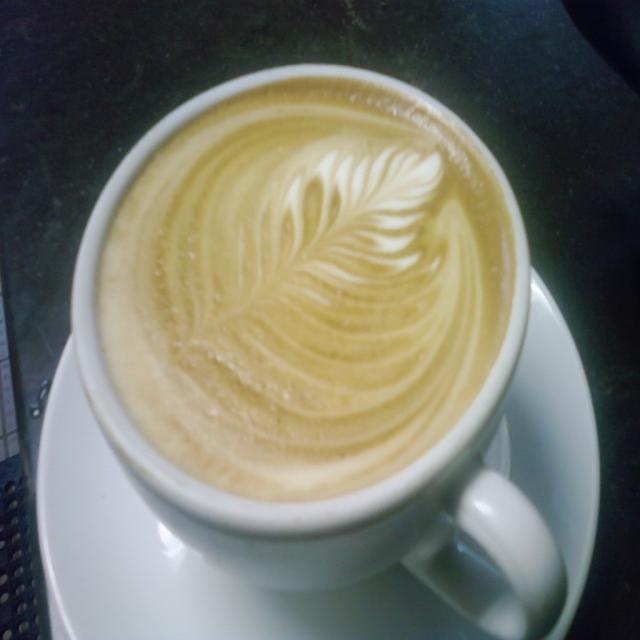Coffee: (93, 76, 518, 495)
